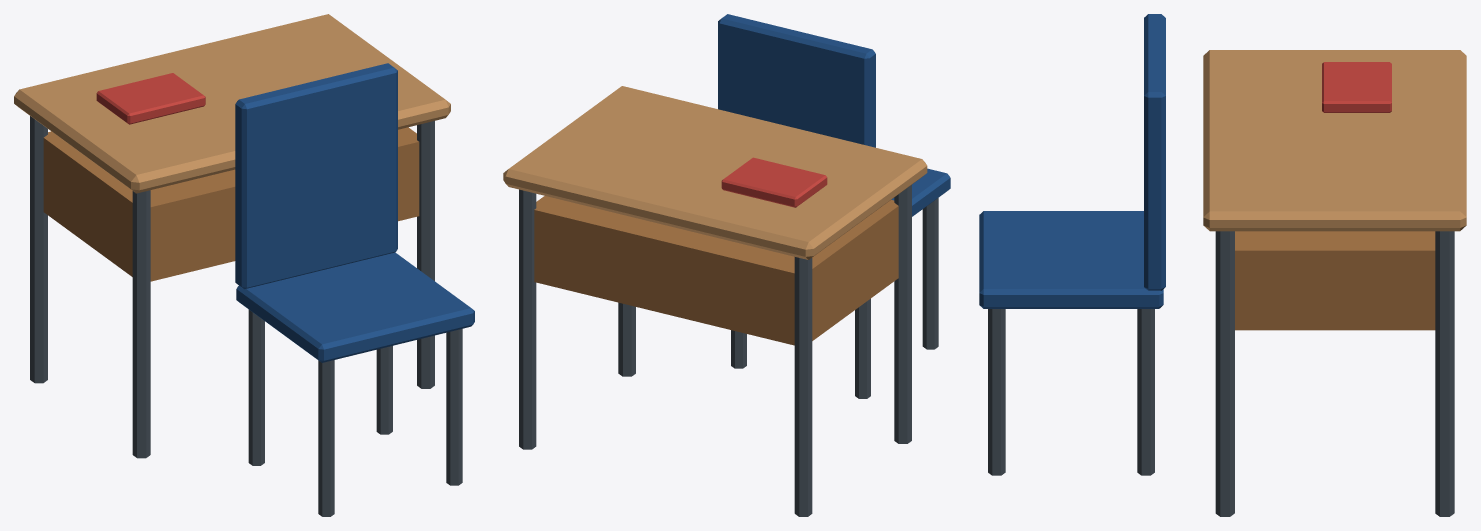
File: decor_1.fbx
3 views of the same model, side by side, from view 1: azimuth 30°, elevation 25°; view 2: azimuth 150°, elevation 25°; view 3: azimuth 270°, elevation 25° (orthographic). The views are drawn at different scales.
Visible parts, largest first — view 1: decor_1; view 2: decor_1; view 3: decor_1.
Boxes of the visible parts, x1=… form: decor_1: x1=14, y1=14, x2=474, y2=516; decor_1: x1=503, y1=14, x2=950, y2=516; decor_1: x1=979, y1=14, x2=1466, y2=516.
Bounding box in the file's own units: 0.9 × 0.97 × 1.11.
